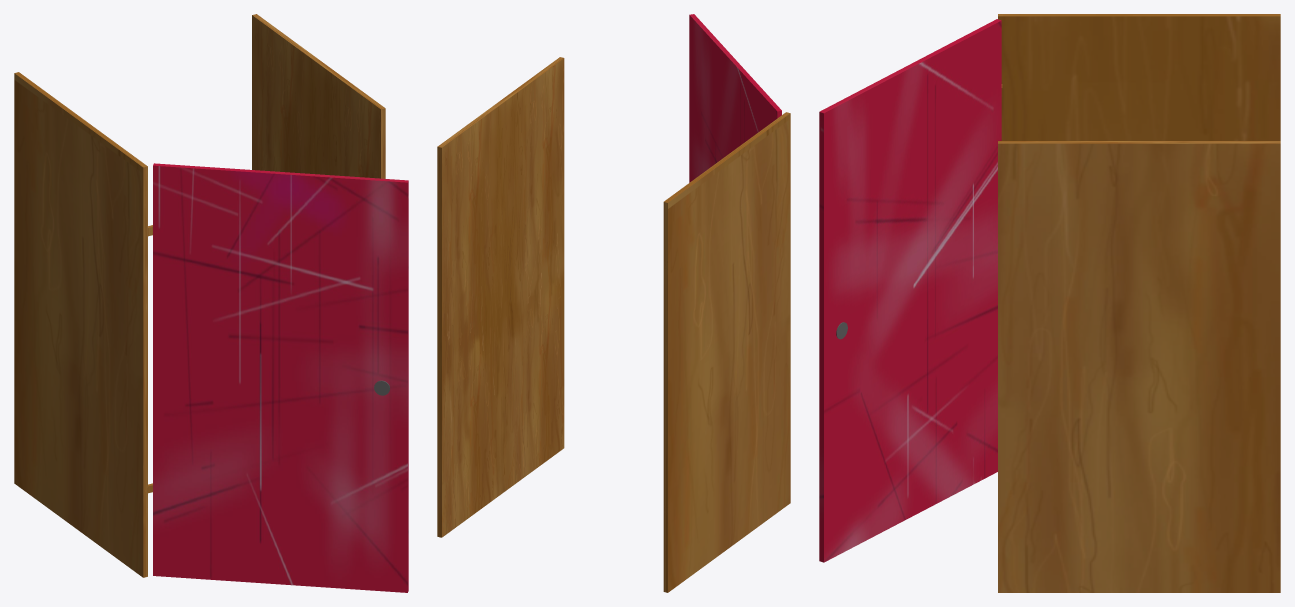
Rendered from cubicle open.fbx.
3 renders of one model, left to right at view 1: azimuth 30°, elevation 25°; view 2: azimuth 150°, elevation 25°; view 3: azimuth 270°, elevation 25°, orthographic. The views are drawn at different scales.
Visible parts, largest first — view 1: pCube9; view 2: pCube9; view 3: pCube9.
Part boxes in pixels (<box>): pCube9: <box>14,14,408,592</box>; pCube9: <box>437,14,790,592</box>; pCube9: <box>819,14,1280,592</box>.
Bounding box in the file's own units: 10.85 × 17.55 × 16.33.
3 materials, 2 textured.
